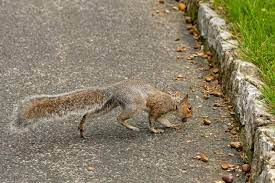squirrel: (12, 84, 196, 141)
